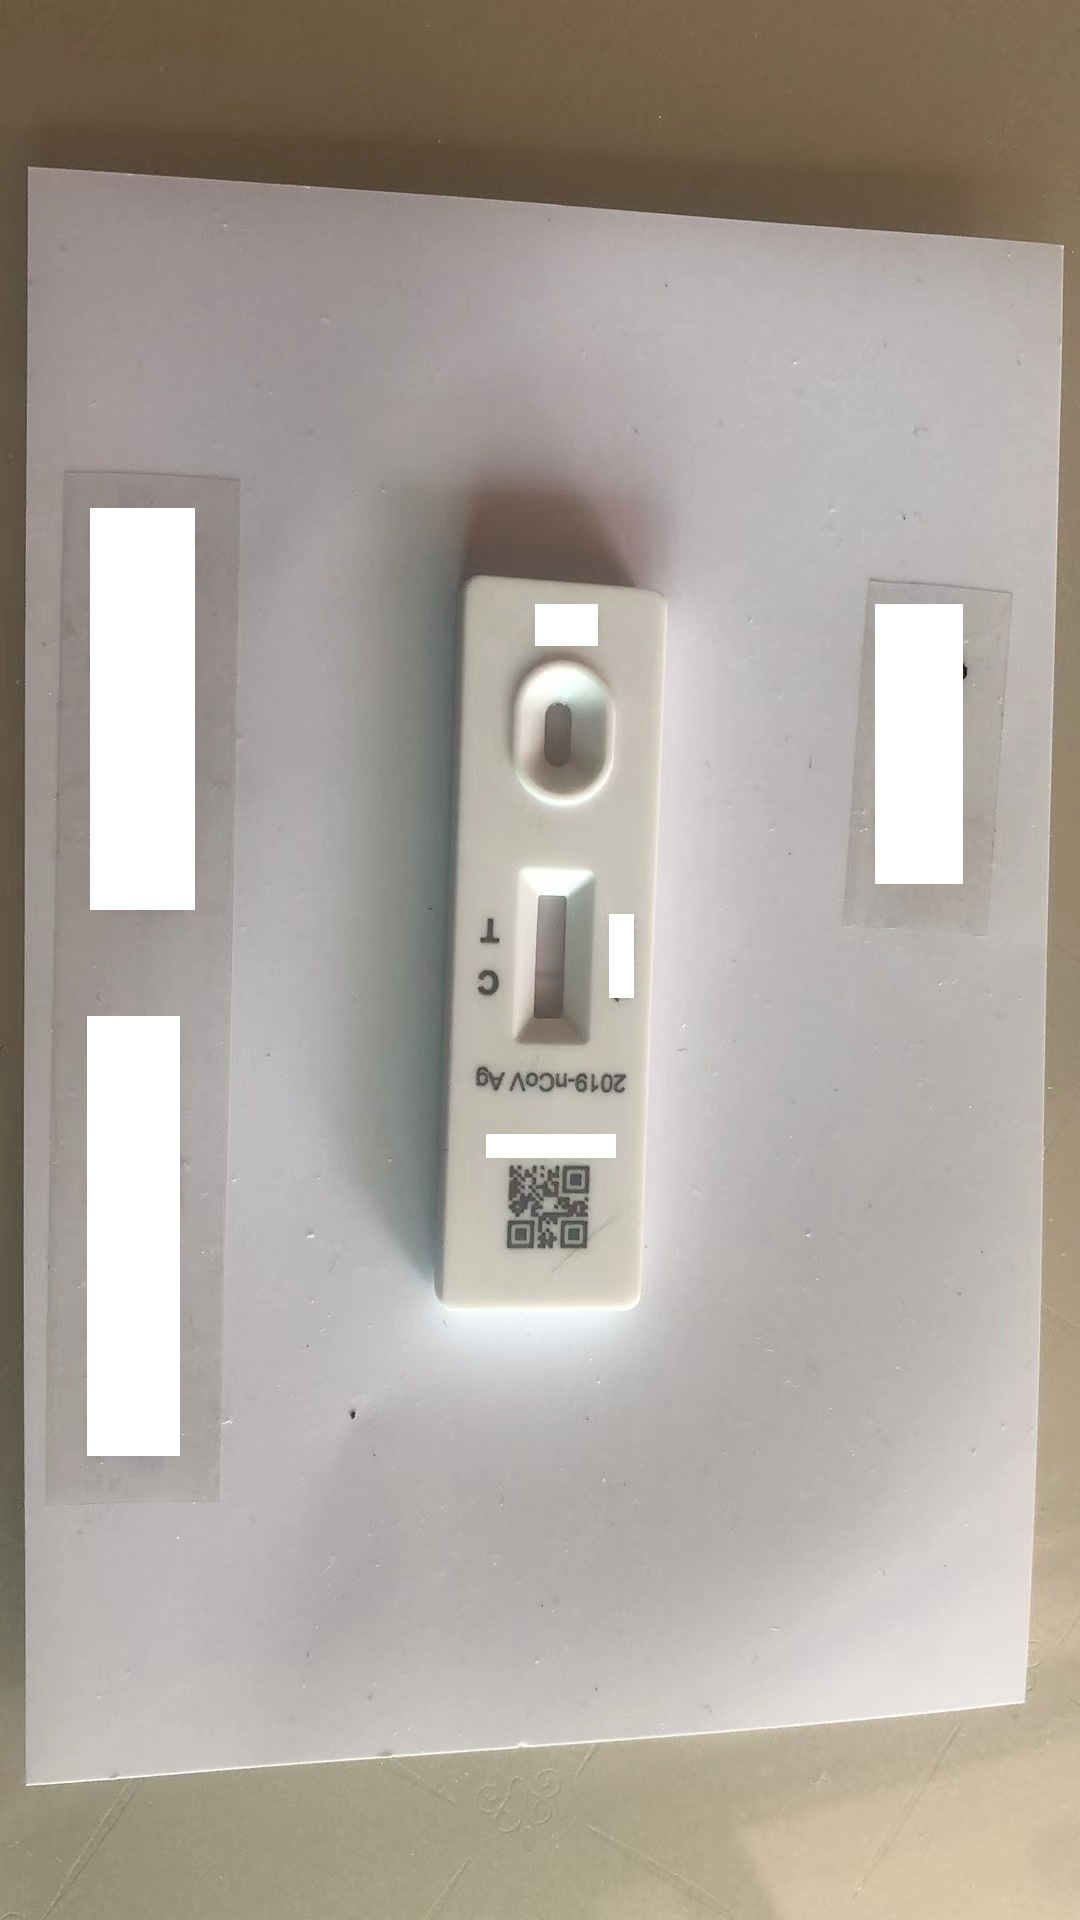negative: (516, 864, 597, 1054)
